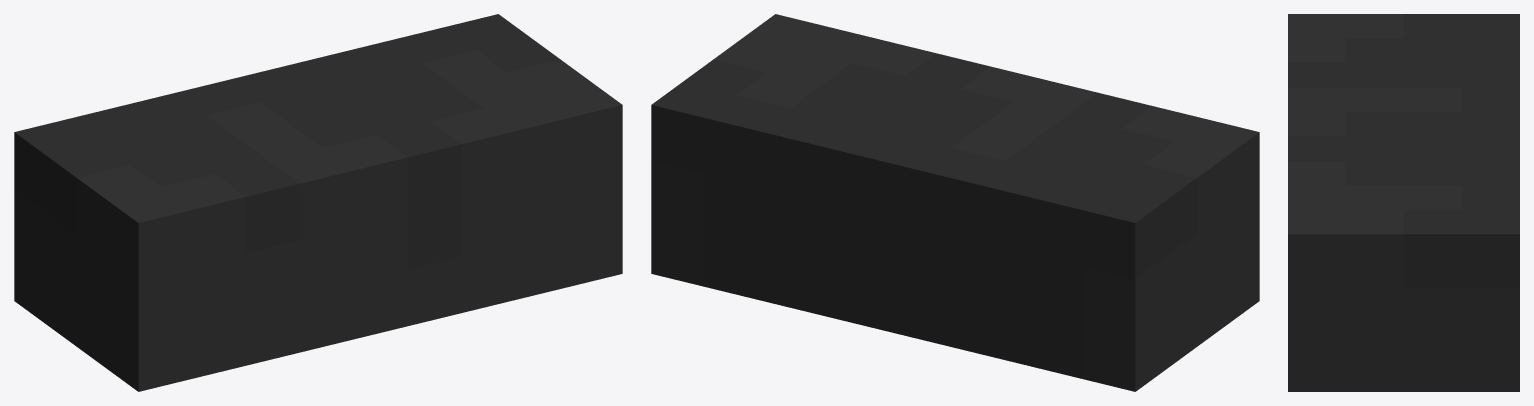
The model's file is ConstructionMaterials-77.obj.
3 renders of one model, left to right at view 1: azimuth 30°, elevation 25°; view 2: azimuth 150°, elevation 25°; view 3: azimuth 270°, elevation 25°, orthographic. The views are drawn at different scales.
Size of the model in its own units: 0.9 by 0.3 by 0.4.
1 material, 1 textured.
